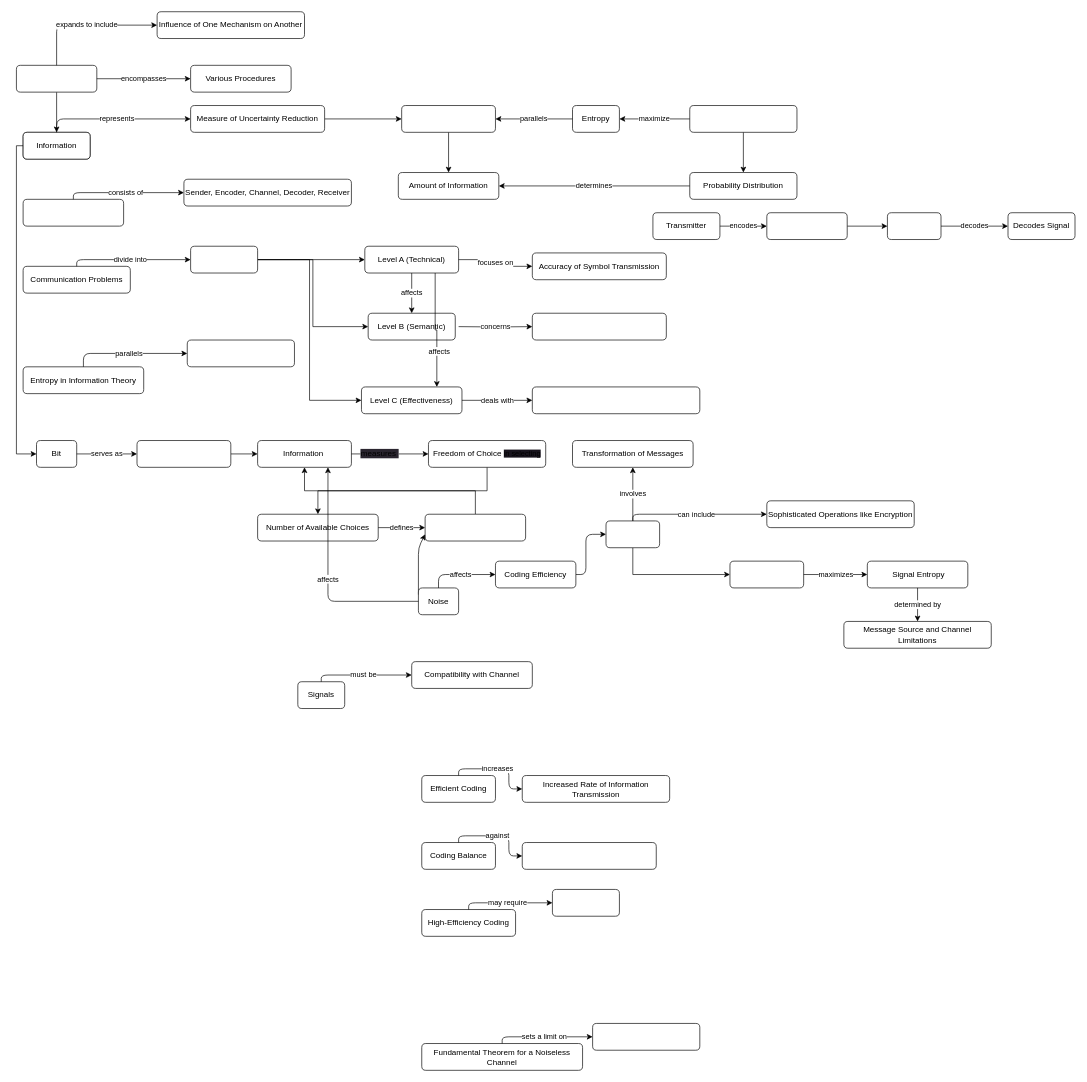
This 1087x1082 diagram has some shape labels left out. The shapes that lost their labels are listed below. From the top down, each one's centre as x and y in pixels, then its label:
At point 56,78: "Communication".
At point 448,118: "Level of Uncertainty".
At point 743,118: "Equally Probable Choices".
At point 73,212: "Shannon-Weaver Model".
At point 806,226: "Encodes Message".
At point 914,226: "Receiver".
At point 224,259: "Three Levels".
At point 599,326: "Precision of Conveying Meaning".
At point 240,353: "Uncertainty in Messages".
At point 616,400: "Impact of Received Meaning on Behavior".
At point 183,453: "Unit of Information".
At point 475,527: "The amount of Information".
At point 632,534: "Coding".
At point 766,574: "Optimal Coding".
At point 589,855: "Transmission Rate and Complexity".
At point 585,902: "Longer Delays".
At point 646,1036: "Limit on Transmission Rate".
